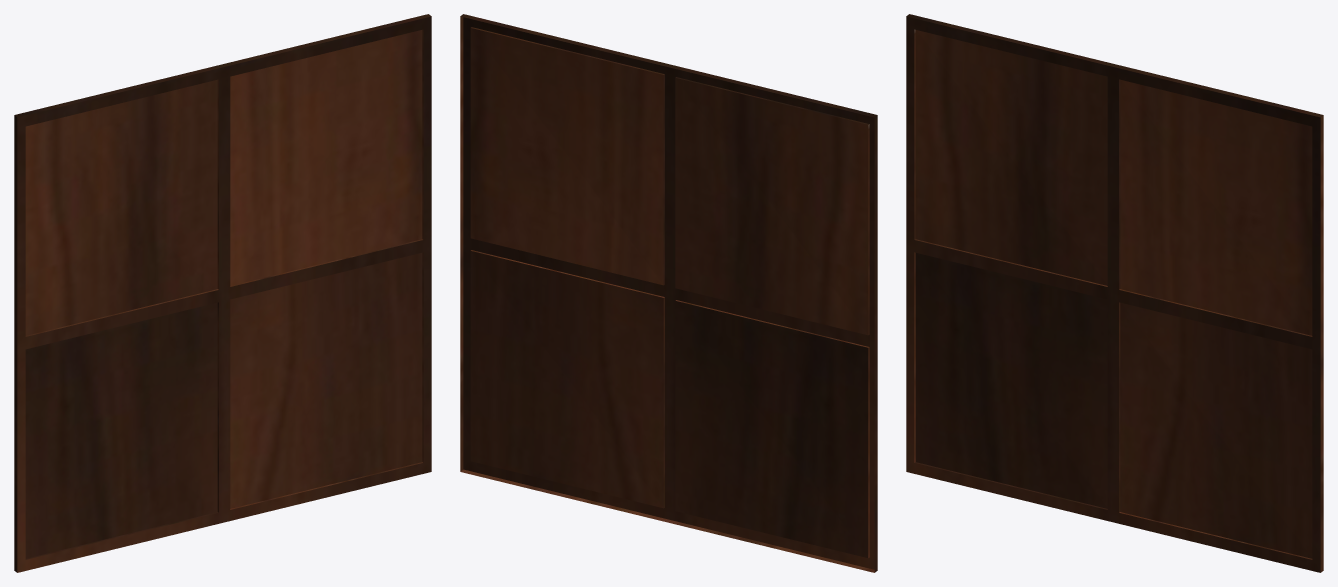
Rendered from puertaG.obj.
3 views of the same model, side by side, from view 1: azimuth 30°, elevation 25°; view 2: azimuth 150°, elevation 25°; view 3: azimuth 330°, elevation 25° (orthographic).
Visible parts, largest first — view 1: polySurface6 puertaG:stolarija_grede; view 2: polySurface6 puertaG:stolarija_grede; view 3: polySurface6 puertaG:stolarija_grede.
Boxes of the visible parts, bbox=[...] form: polySurface6 puertaG:stolarija_grede: bbox=[14, 14, 431, 572]; polySurface6 puertaG:stolarija_grede: bbox=[460, 14, 877, 572]; polySurface6 puertaG:stolarija_grede: bbox=[906, 14, 1323, 572].
Size of the model in its own units: 4.4 by 4.62 by 0.06.
1 material, 1 textured.
